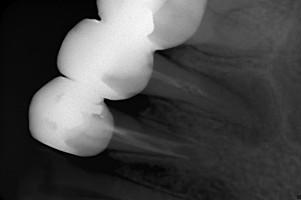Furcation Involvement: (206, 68, 285, 150)
